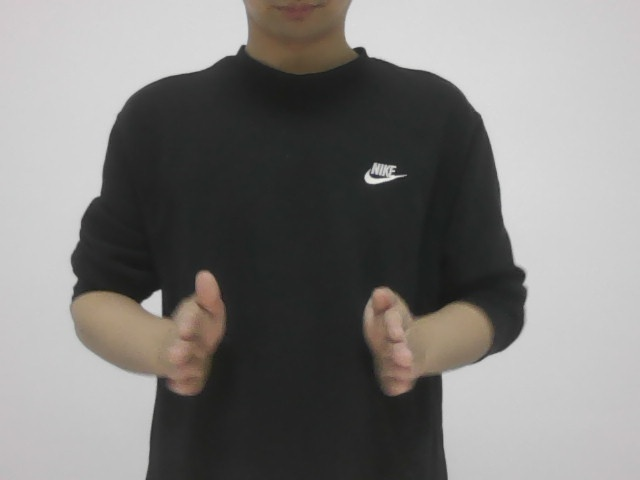road: (159, 268, 427, 405)
